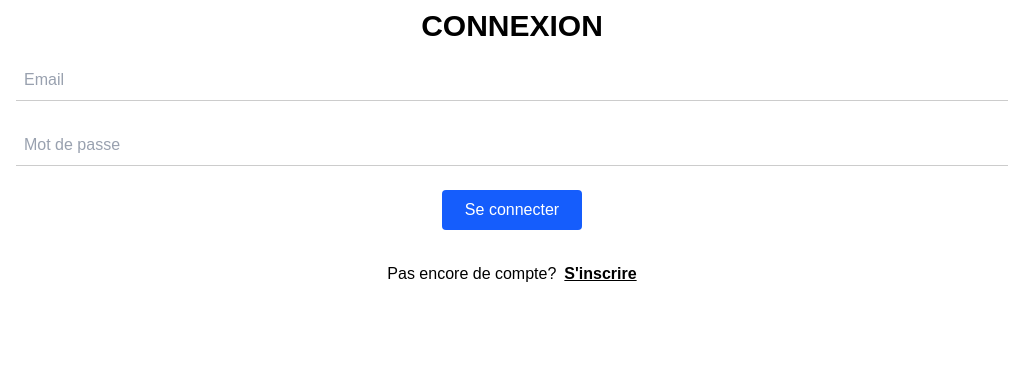
Scenario: LoginClientForm › affiche une erreur si le login échoue
Type "test@example.com" into the field with placeholder "Email". click: coordinates (512, 80)
box: x1=16 y1=60 x2=1008 y2=101
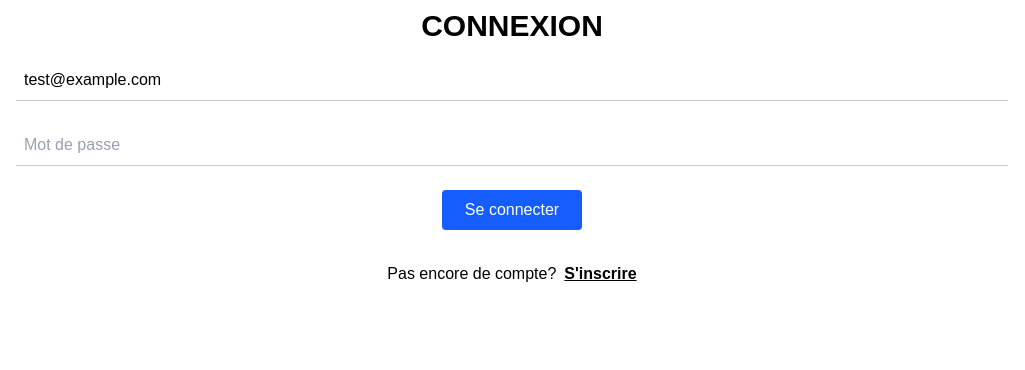
Type "wrongpassword" into the password field with placeholder "Mot de passe". click: coordinates (512, 146)
box: x1=16 y1=125 x2=1008 y2=166
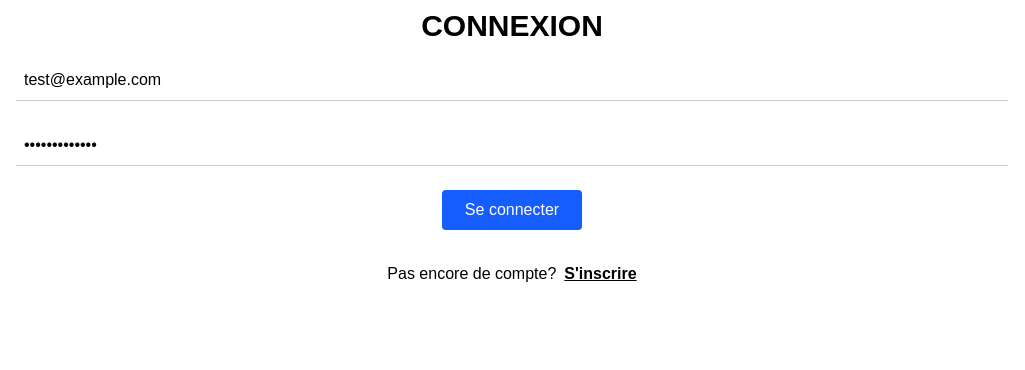
Click the button "Se connecter". click: coordinates (512, 210)
box: x1=442 y1=190 x2=582 y2=230
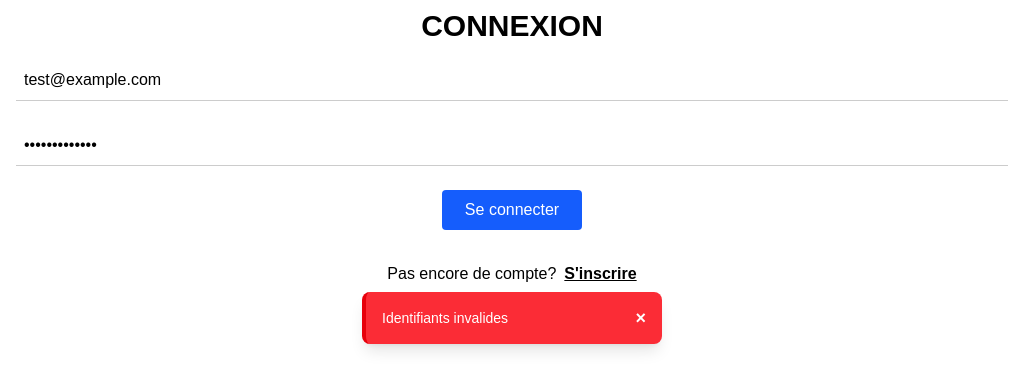
Now the text "Identifiants invalides" is shown, box x1=382 y1=308 x2=508 y2=328
